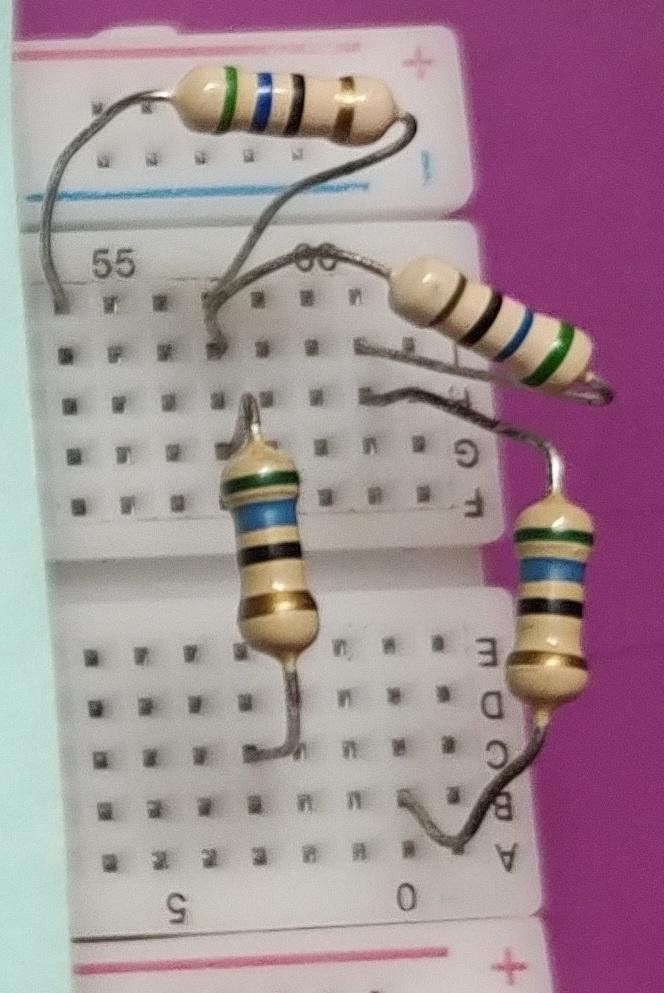resistor: (383, 243, 624, 411), (157, 45, 412, 179), (205, 421, 338, 677), (499, 465, 603, 731)
